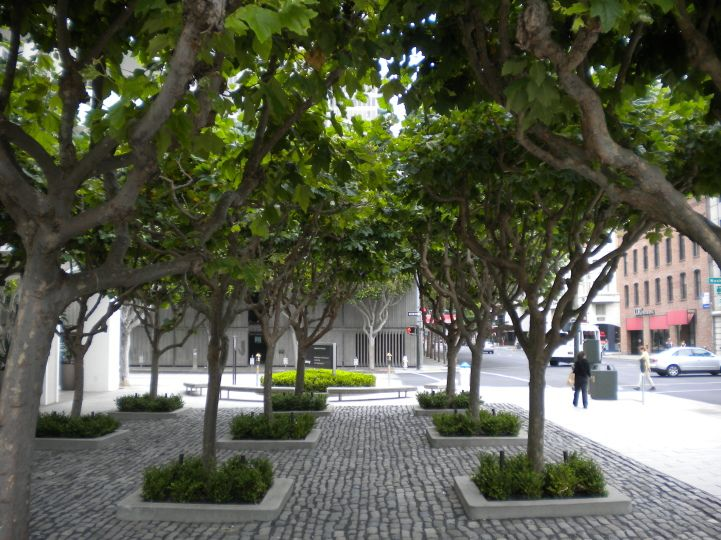tree: (396, 111, 679, 499)
